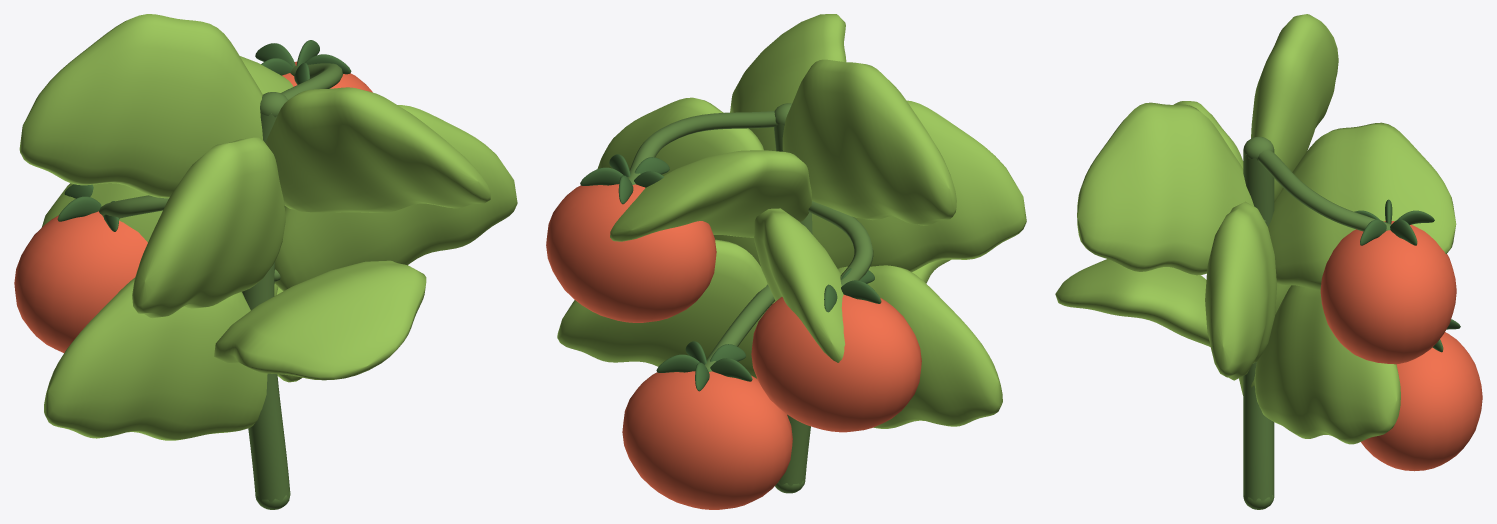
File: crop_4_stage_3.fbx
3 renders of one model, left to right at view 1: azimuth 30°, elevation 25°; view 2: azimuth 150°, elevation 25°; view 3: azimuth 270°, elevation 25°, orthographic. The views are drawn at different scales.
Visible parts, largest first — view 1: crop_4_stage_3; view 2: crop_4_stage_3; view 3: crop_4_stage_3.
Part boxes in pixels (x1=…): crop_4_stage_3: x1=14, y1=14, x2=517, y2=509; crop_4_stage_3: x1=546, y1=14, x2=1026, y2=509; crop_4_stage_3: x1=1055, y1=14, x2=1482, y2=509.
Size of the model in its own units: 0.85 by 0.9 by 0.78.
Materials: 1 (1 with a texture image).
